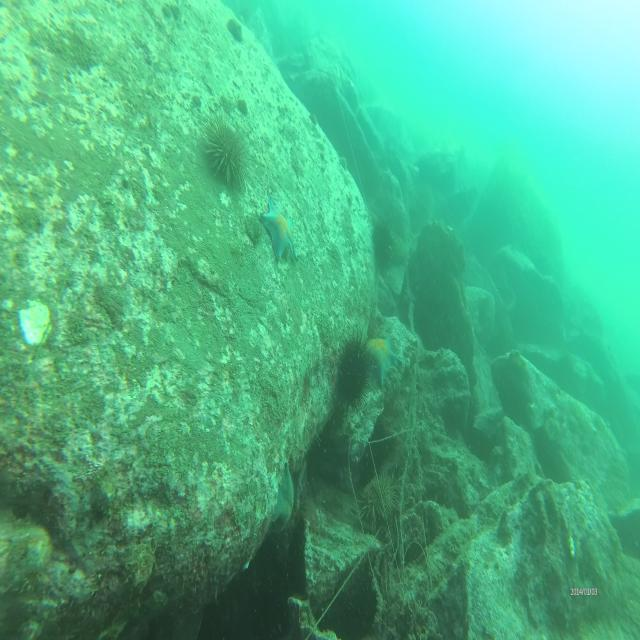echinus: (202, 113, 250, 188), (334, 331, 375, 406), (371, 217, 396, 265)
starfish: (256, 195, 300, 265), (365, 328, 398, 387), (274, 465, 296, 530)
